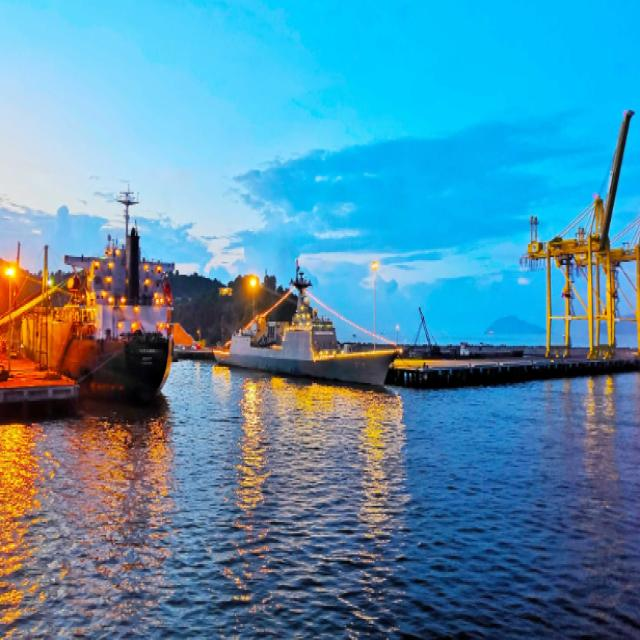houseboat: (27, 199, 184, 386), (231, 265, 401, 377)
